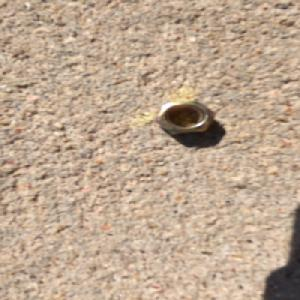Nut: (153, 99, 217, 136)
